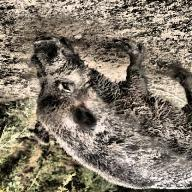boar: (12, 24, 191, 192)
